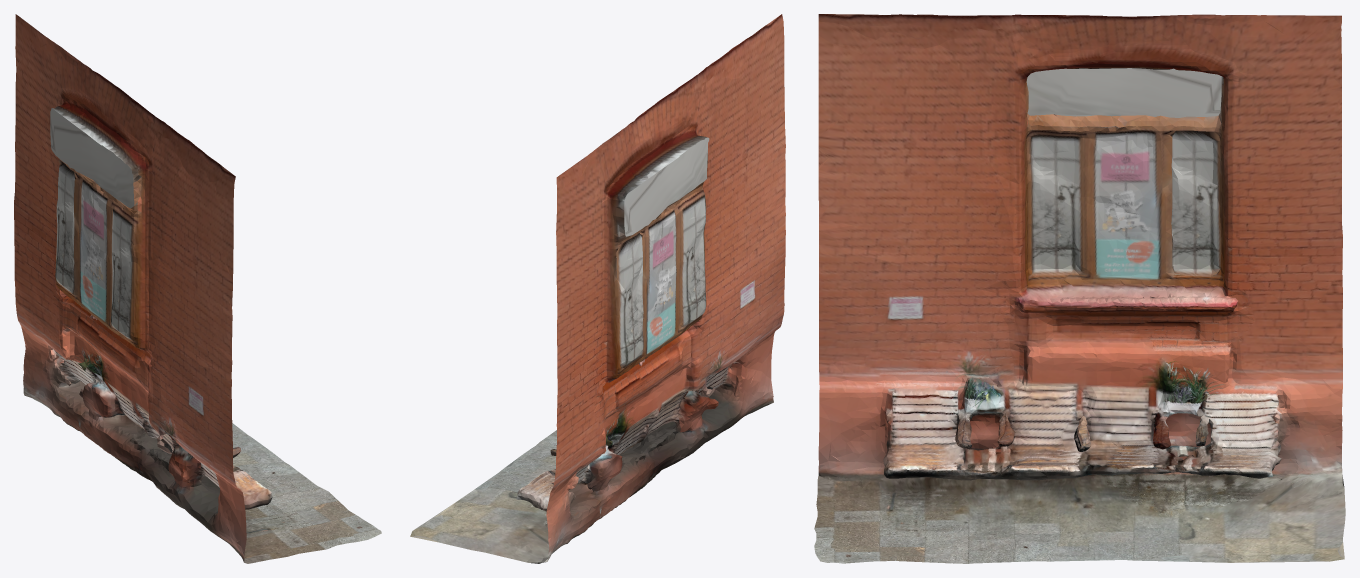
The model's file is thisshit.glb.
3 views of the same model, side by side, from view 1: azimuth 30°, elevation 25°; view 2: azimuth 150°, elevation 25°; view 3: azimuth 270°, elevation 25° (orthographic). The views are drawn at different scales.
Parts seen in each view (by area): view 1: wall, window, chair, paper; view 2: wall, window, chair, paper; view 3: wall, window, chair, paper.
Part boxes in pixels (bbox=[...]): wall: bbox=[14, 14, 381, 563]; window: bbox=[50, 96, 145, 347]; chair: bbox=[53, 349, 272, 517]; paper: bbox=[183, 382, 204, 415]; wall: bbox=[410, 14, 785, 563]; window: bbox=[606, 128, 709, 377]; chair: bbox=[516, 352, 747, 518]; paper: bbox=[735, 275, 756, 312]; wall: bbox=[814, 14, 1345, 563]; window: bbox=[1022, 63, 1228, 290]; chair: bbox=[883, 379, 1282, 480]; paper: bbox=[885, 291, 934, 324].
Bounding box in the file's own units: 2.09 × 4.72 × 4.9.
Materials: 1 (1 with a texture image).
